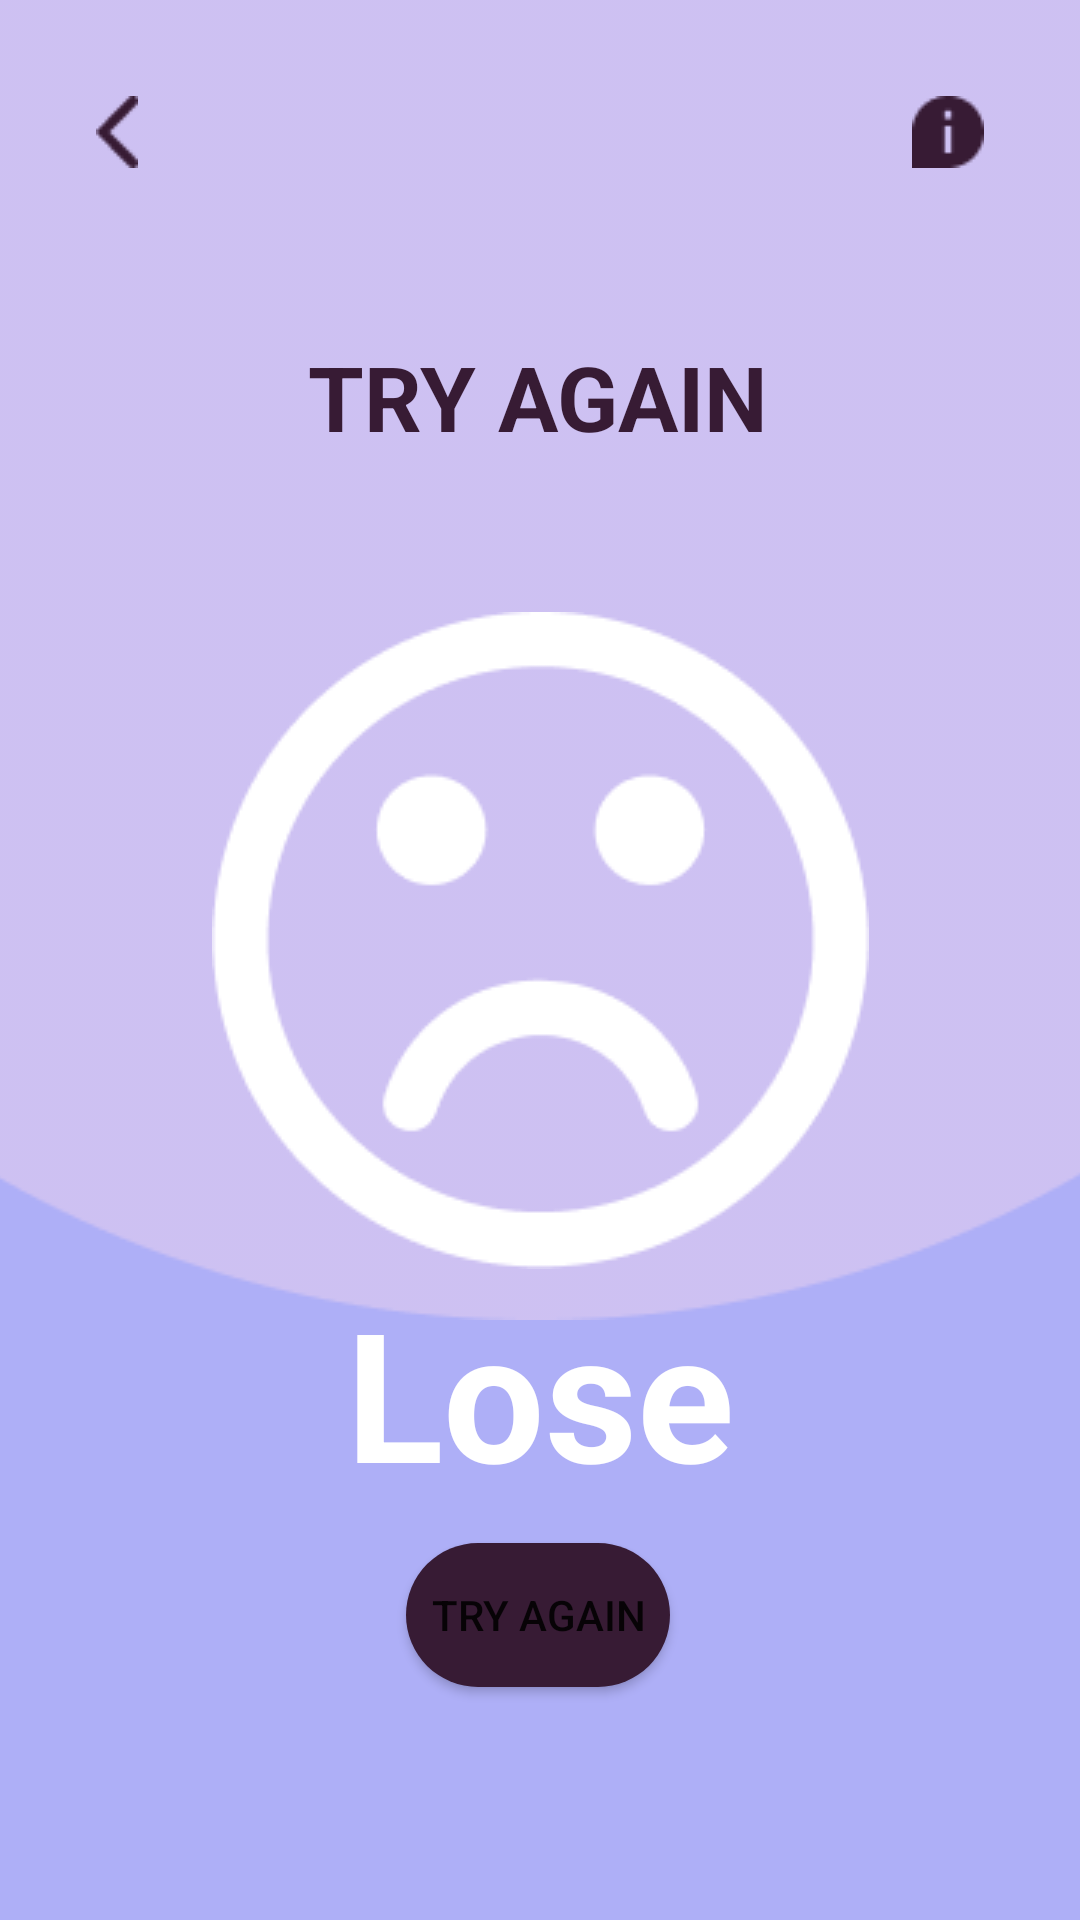

Where icons sit on this 1080 x 1920 app screen, as (x1, y1, x2, y2):
back: (96, 96, 138, 168)
info: (912, 96, 984, 168)
